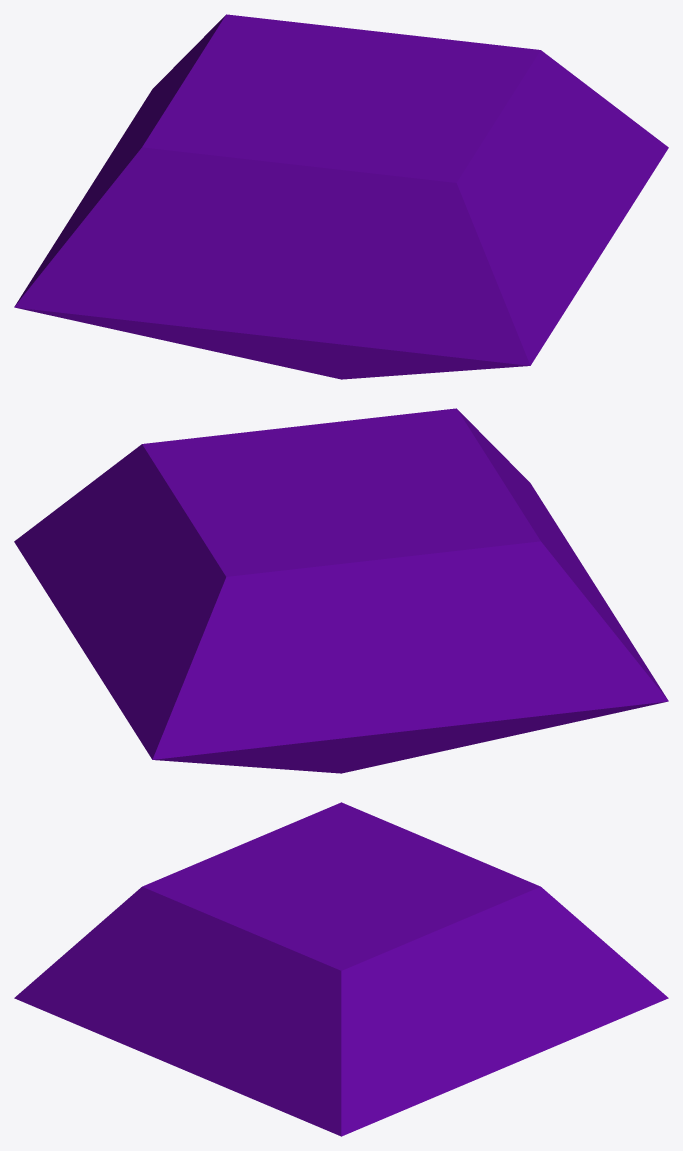
Rendered from Gem_09.glb.
3 renders of one model, top to bottom at view 1: azimuth 30°, elevation 25°; view 2: azimuth 150°, elevation 25°; view 3: azimuth 270°, elevation 25°, orthographic. The views are drawn at different scales.
Parts seen in each view (by area): view 1: Gem_09; view 2: Gem_09; view 3: Gem_09.
Part boxes in pixels (left/top/right/bottom): Gem_09: left=14, top=14, right=668, bottom=379; Gem_09: left=14, top=408, right=668, bottom=773; Gem_09: left=14, top=802, right=668, bottom=1136.
Bounding box in the file's own units: 0.1267 × 0.0519 × 0.1267.
